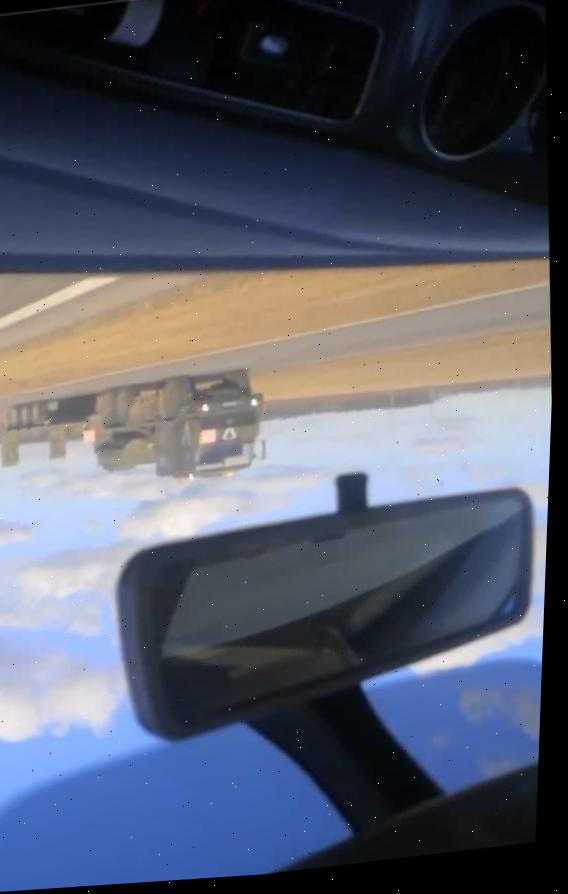truck: (0, 362, 280, 512)
